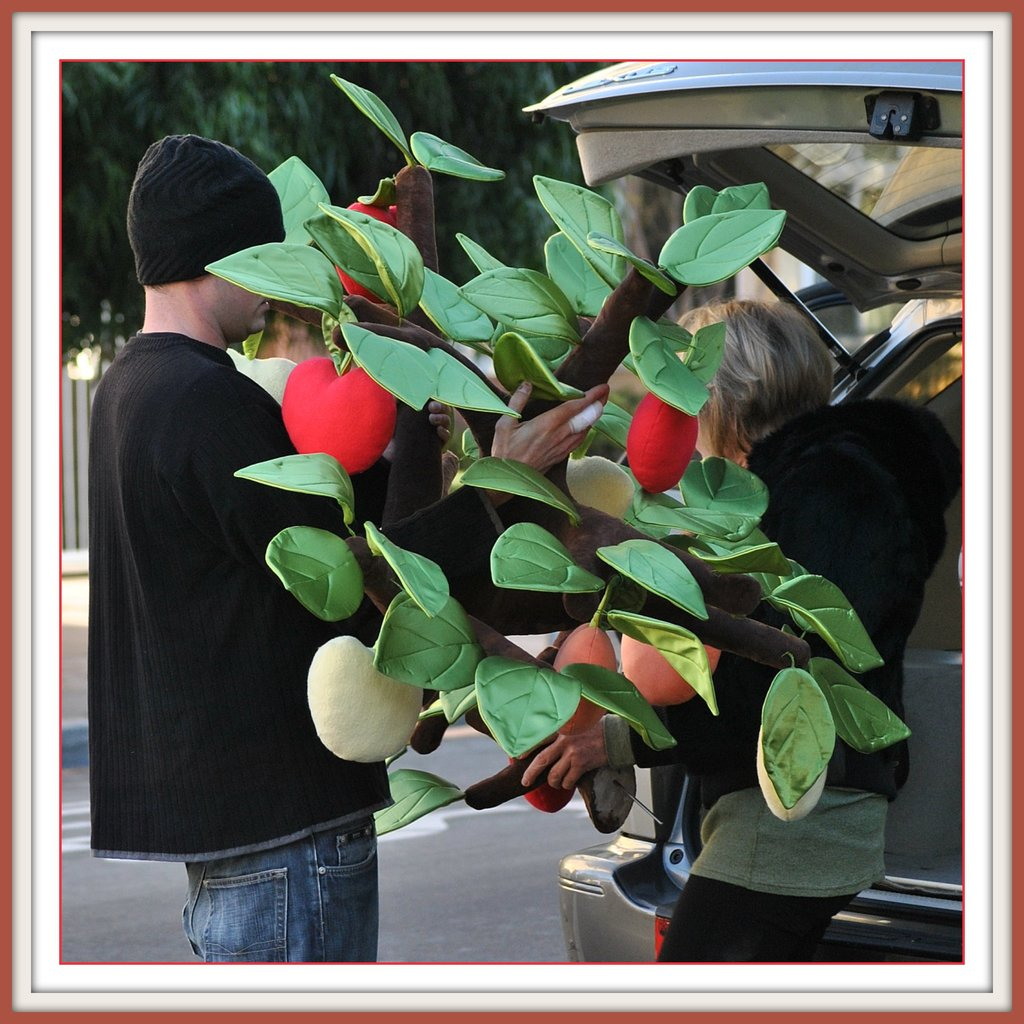Apple: (279, 357, 402, 470)
